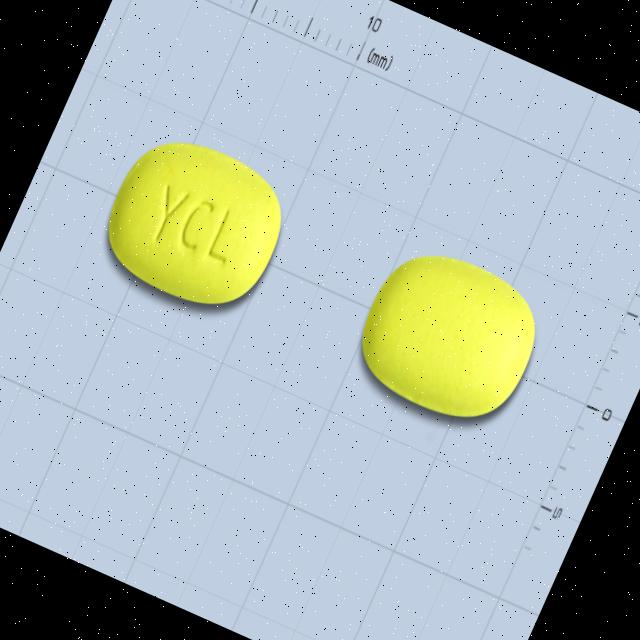Clarithromycin Tab- Reyon: (90, 117, 304, 326), (344, 232, 558, 438)
